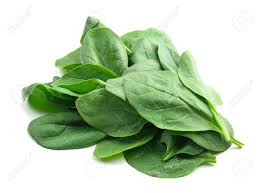spinach: (32, 19, 218, 169)
